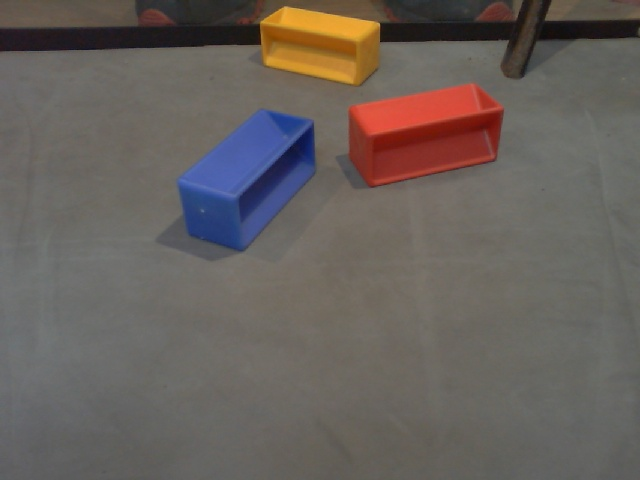BlueSample: (173, 108, 322, 255)
RedSample: (344, 80, 506, 189)
YellowSample: (258, 3, 383, 90)
